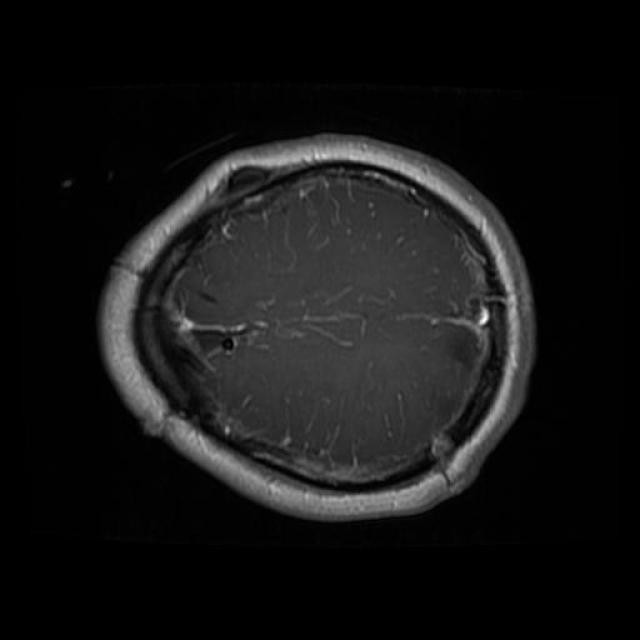Glioma: (137, 240, 230, 421)
